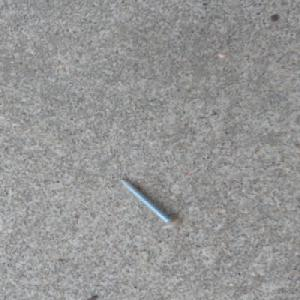Screw: (119, 178, 183, 229)
